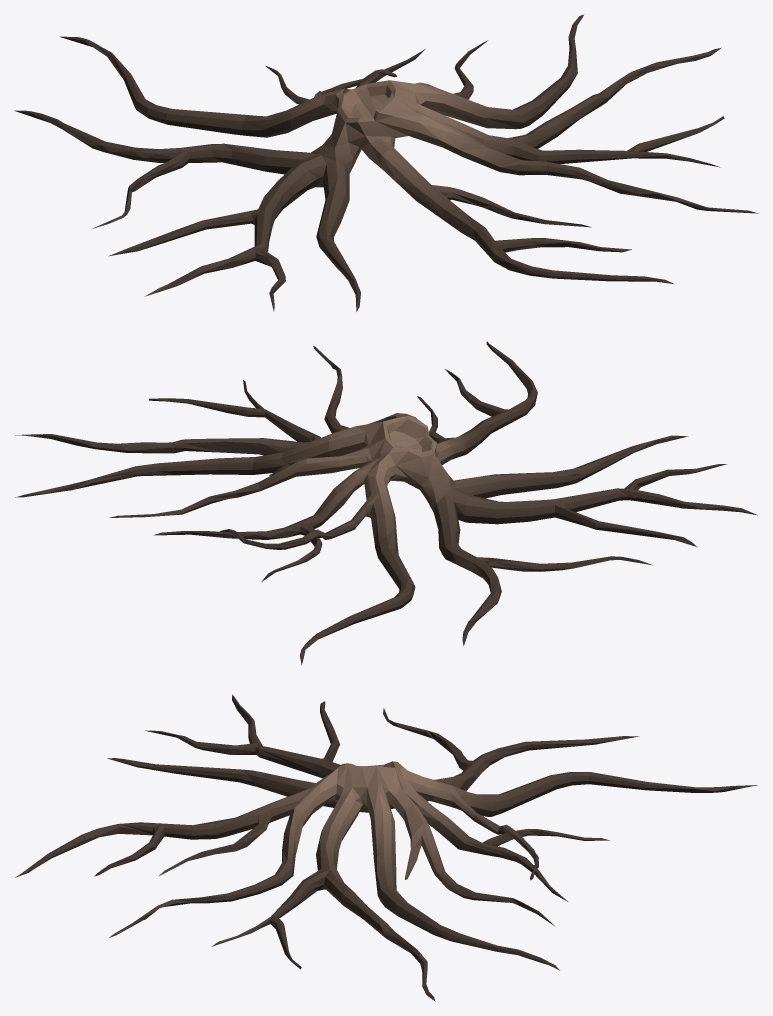
File: Jungle_Roots_B.fbx
The picture shows the model from 3 angles, top to bottom: view 1: azimuth 30°, elevation 25°; view 2: azimuth 150°, elevation 25°; view 3: azimuth 270°, elevation 25°; orthographic projection. The views are drawn at different scales.
Visible parts, largest first — view 1: Jungle_Roots_B; view 2: Jungle_Roots_B; view 3: Jungle_Roots_B.
Part boxes in pixels (x1=…): Jungle_Roots_B: x1=14, y1=14, x2=758, y2=311; Jungle_Roots_B: x1=15, y1=341, x2=757, y2=665; Jungle_Roots_B: x1=15, y1=694, x2=757, y2=1001.
Bounding box in the file's own units: 12.64 × 1.54 × 12.94.
Materials: 1 (1 with a texture image).
